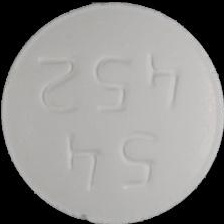16590-781: (0, 0, 224, 224)
